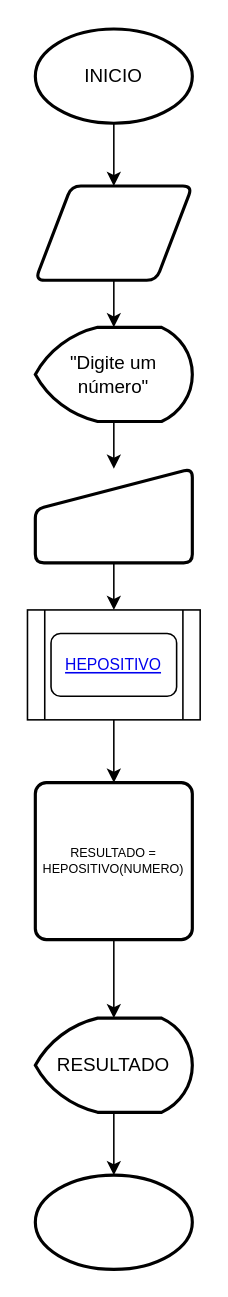
Some shapes in this 228 by 1297 pixel diagram are drawn without their labels. The centre of each missing label's shape, as x and y in pixels:
"FIM" goes at pixel 113 1221.
"NUMERO" goes at pixel 113 515.
"NUMERO RESULTADO" goes at pixel 113 232.
